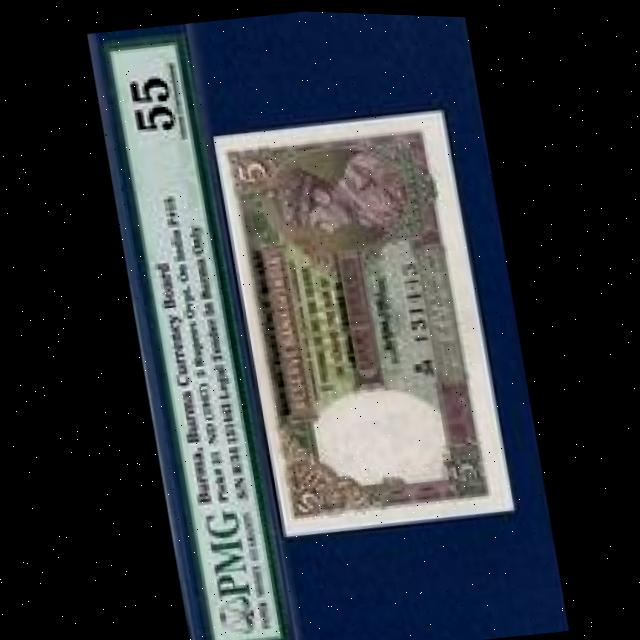banknote: (209, 98, 513, 544)
